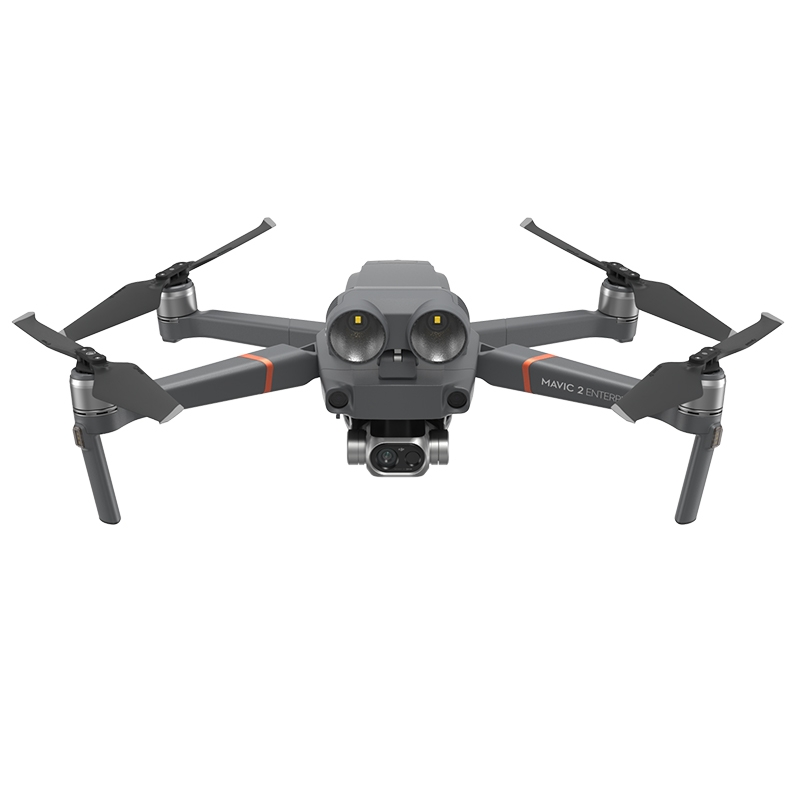drone: (6, 207, 790, 541)
